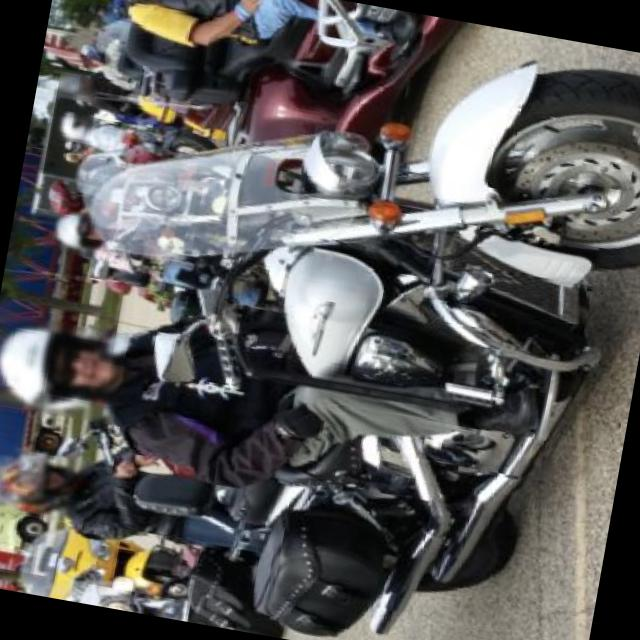With Helmet: (0, 309, 131, 424), (0, 441, 92, 525), (44, 204, 109, 256), (52, 106, 99, 144), (55, 70, 100, 102), (71, 38, 111, 73)
